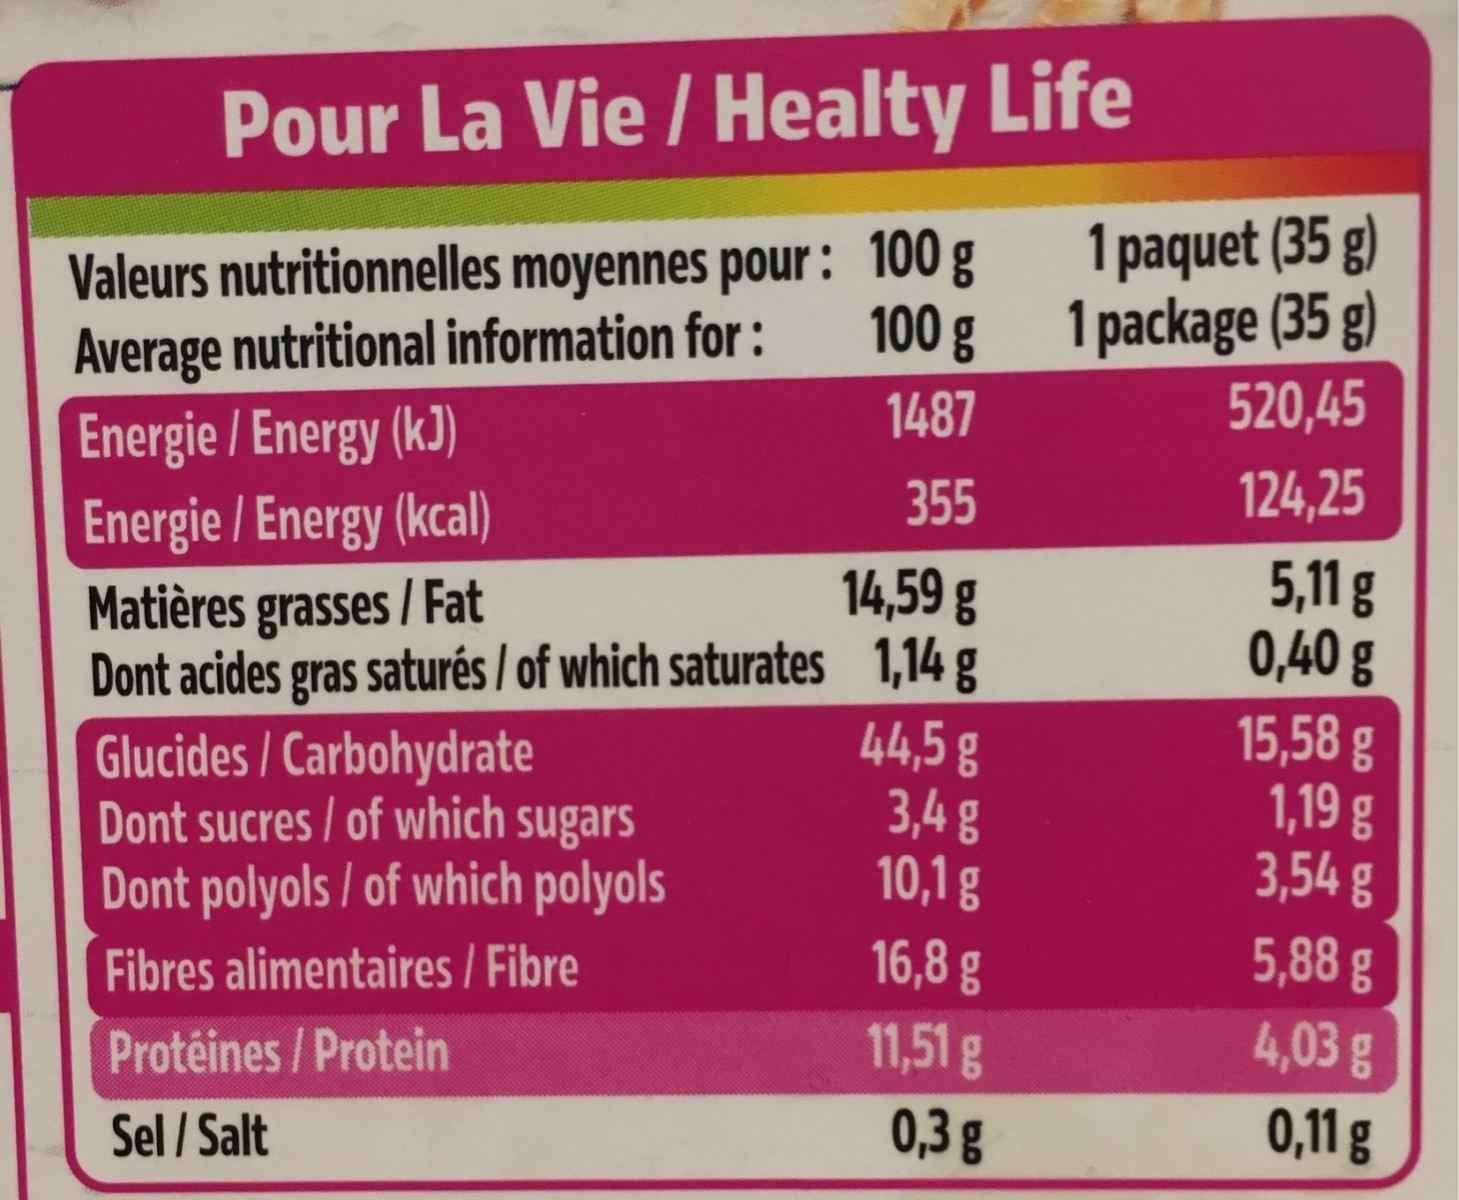column: (64, 232, 833, 1171), (1064, 213, 1386, 1168), (842, 228, 988, 1164)
table: (8, 15, 1427, 1187)
